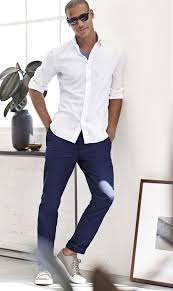S_shirt: (28, 33, 125, 143)
